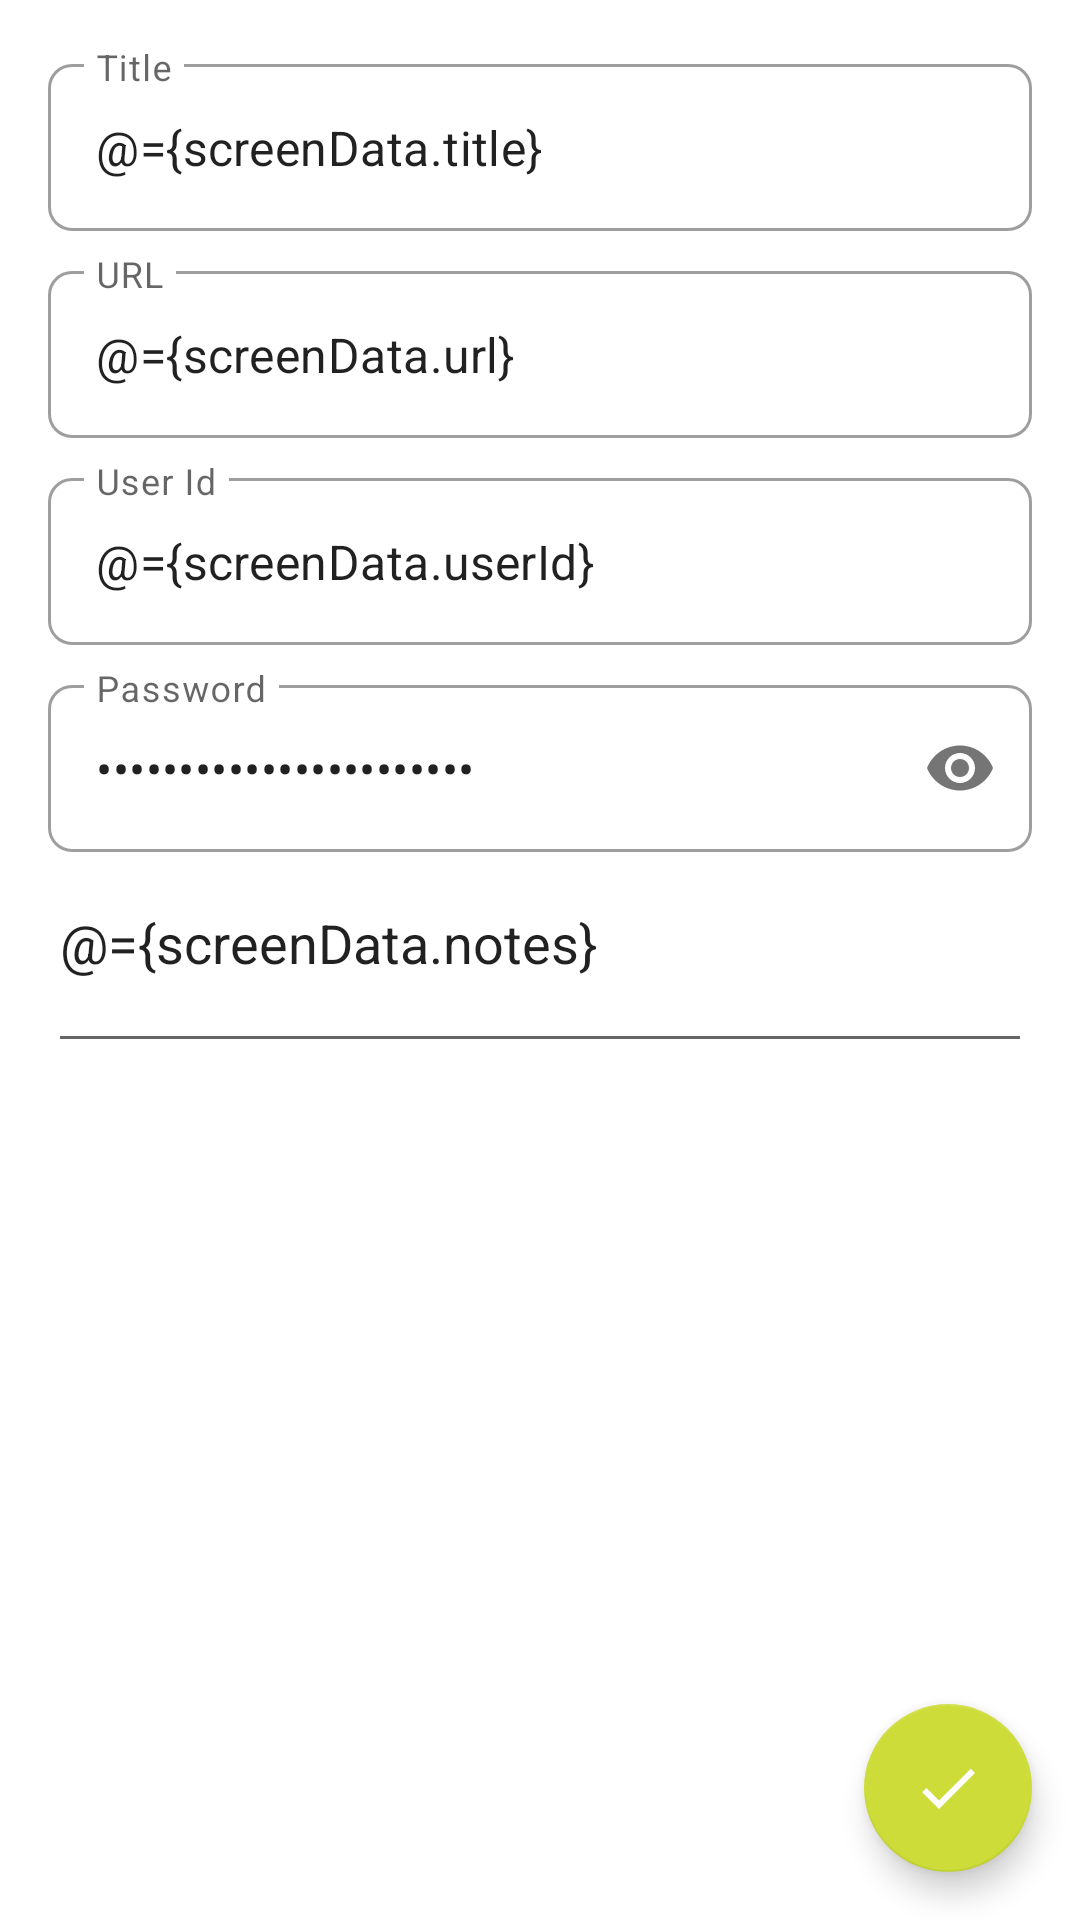

Locate icon controls on the screen. Image size 1080×1920, boxes as [left=x1, top=y1, right=x2, bottom=y2].
check: [left=864, top=1704, right=1032, bottom=1872]
